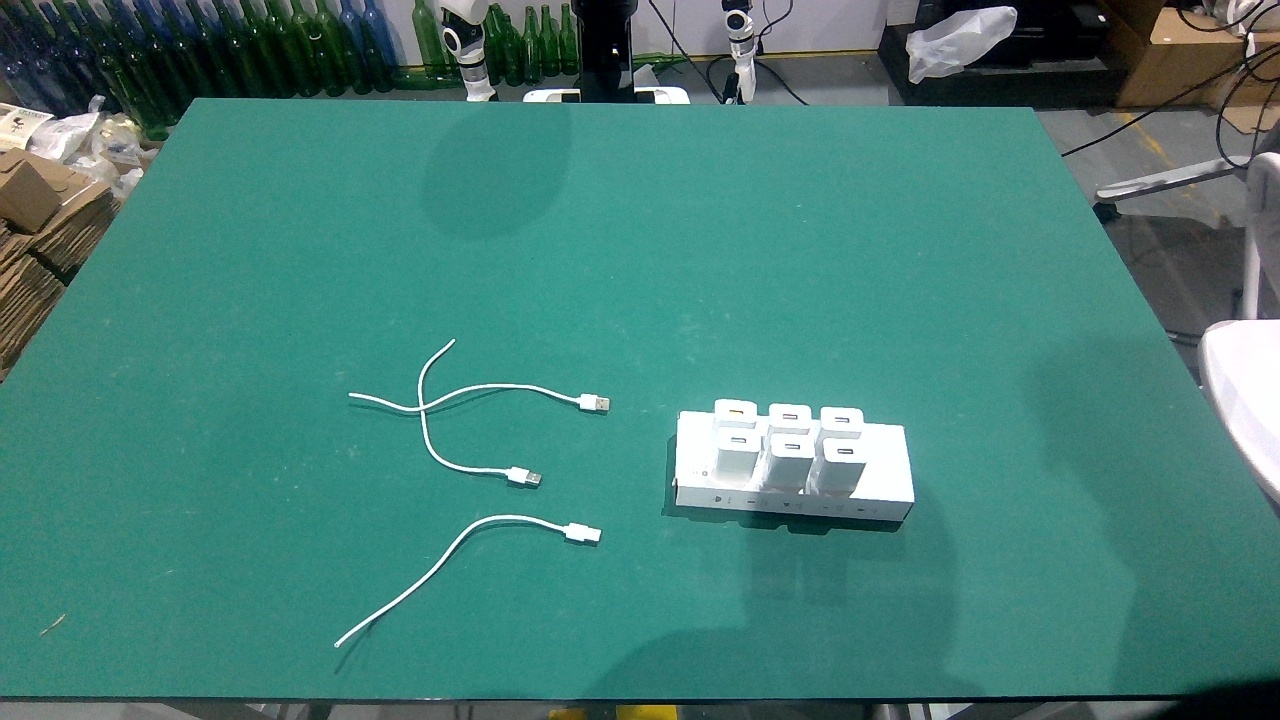usb_a_port: (780, 441, 803, 452), (726, 405, 747, 417), (730, 434, 747, 447), (777, 413, 801, 421), (836, 446, 855, 456), (833, 416, 852, 425)
